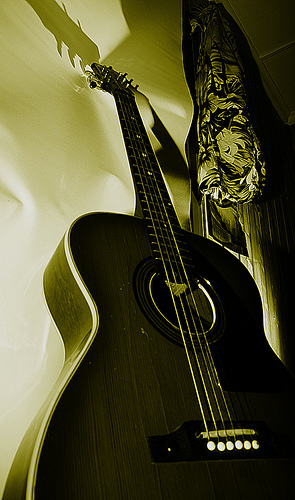guitar: (3, 60, 295, 500)
